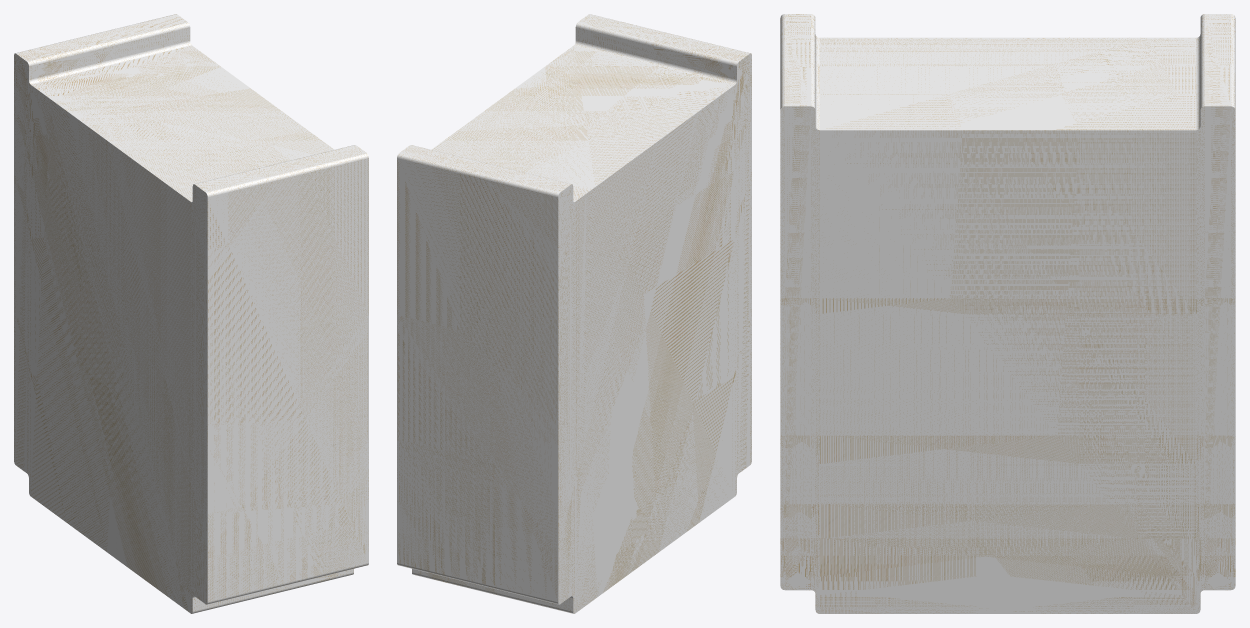
3 renders of one model, left to right at view 1: azimuth 30°, elevation 25°; view 2: azimuth 150°, elevation 25°; view 3: azimuth 270°, elevation 25°, orthographic. The views are drawn at different scales.
Visible parts, largest first — view 1: SketchUp; view 2: SketchUp; view 3: SketchUp.
Boxes of the visible parts, x1,y1,x2,y2 form: SketchUp: (14, 14, 368, 613); SketchUp: (397, 14, 751, 613); SketchUp: (780, 14, 1235, 613).
Bounding box in the file's own units: 0.9843 × 2.05 × 2.52.
